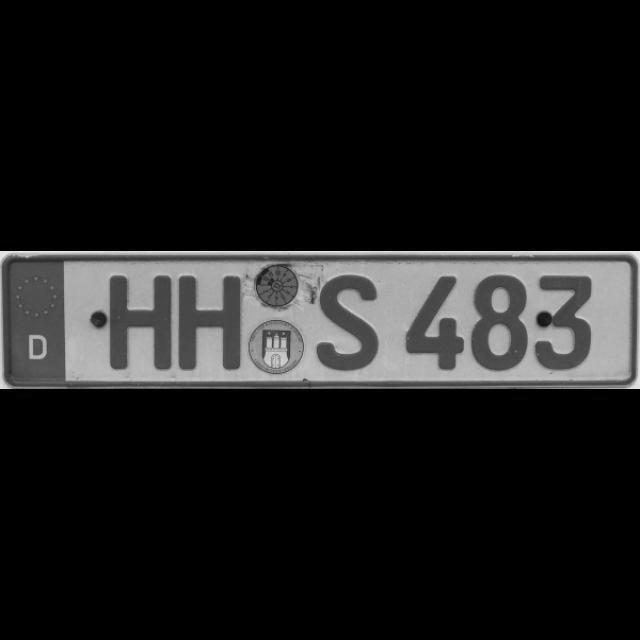licenseplate: (3, 258, 633, 383)
